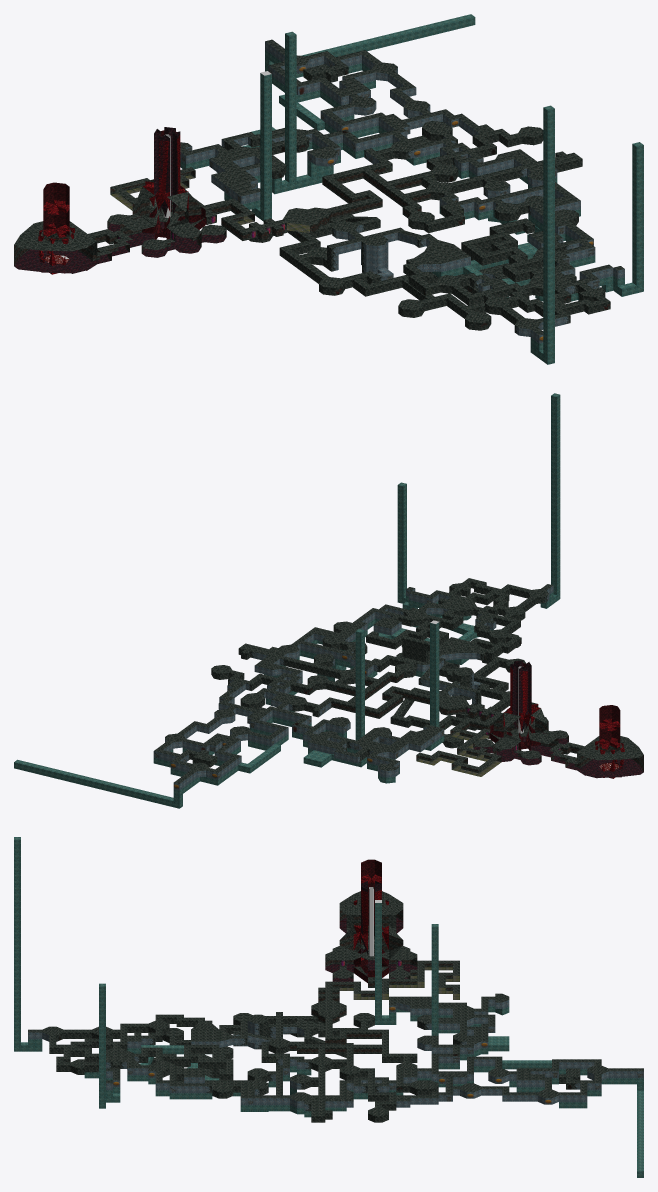
The model's file is Qeynos Catacombs.fbx.
3 views of the same model, one above another, from view 1: azimuth 30°, elevation 25°; view 2: azimuth 150°, elevation 25°; view 3: azimuth 270°, elevation 25° (orthographic). The views are drawn at different scales.
Parts seen in each view (by area): view 1: zoneQeynosCatacombs, WaterUnderwaterAreas; view 2: zoneQeynosCatacombs, WaterUnderwaterAreas; view 3: zoneQeynosCatacombs, WaterUnderwaterAreas.
Boxes of the visible parts, left/top/right/bottom form: zoneQeynosCatacombs: left=14, top=14, right=643, bottom=343; WaterUnderwaterAreas: left=180, top=31, right=643, bottom=364; zoneQeynosCatacombs: left=14, top=393, right=643, bottom=807; WaterUnderwaterAreas: left=153, top=581, right=560, bottom=808; zoneQeynosCatacombs: left=14, top=837, right=643, bottom=1177; WaterUnderwaterAreas: left=14, top=924, right=643, bottom=1117.
Bounding box in the file's own units: 1176 × 490 × 1245.
